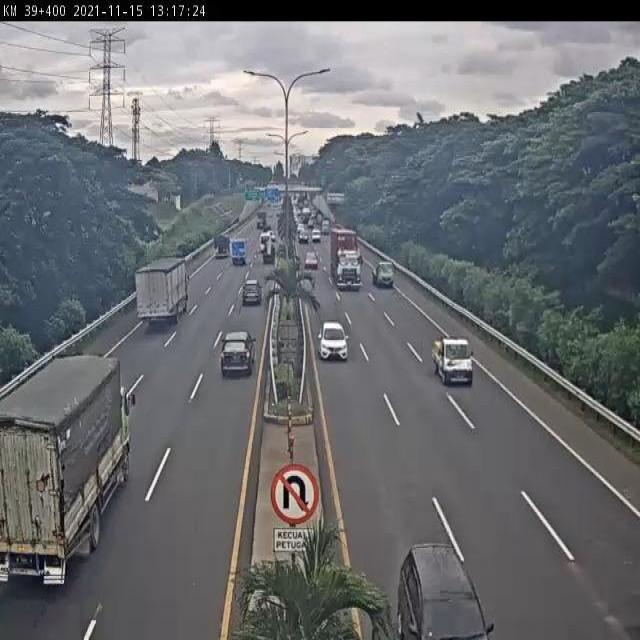big truck: (330, 228, 362, 296)
car: (220, 330, 255, 378), (317, 321, 350, 363), (241, 277, 263, 311), (303, 249, 320, 272)
small truck: (431, 334, 476, 390), (371, 260, 396, 291), (261, 240, 279, 269)
truck-m-: (0, 355, 140, 580), (136, 256, 190, 328)
